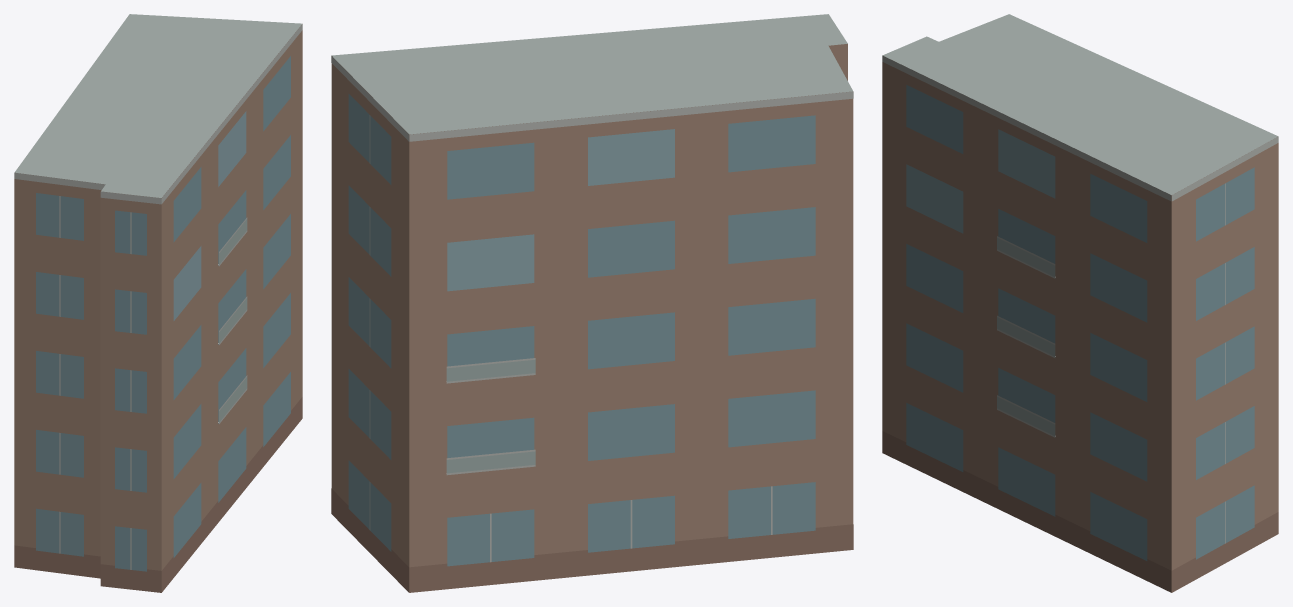
File: survey-upis-32643644.glb
3 views of the same model, side by side, from view 1: azimuth 30°, elevation 25°; view 2: azimuth 150°, elevation 25°; view 3: azimuth 270°, elevation 25° (orthographic). The views are drawn at different scales.
Visible parts, largest first — view 1: survey-upis-32643644.tmp; view 2: survey-upis-32643644.tmp; view 3: survey-upis-32643644.tmp.
Part boxes in pixels (x1,y1,x2,y2): survey-upis-32643644.tmp: (14,14,302,592); survey-upis-32643644.tmp: (331,14,853,592); survey-upis-32643644.tmp: (882,14,1278,592).
Size of the model in its own units: 14.92 by 15.25 by 13.78.
